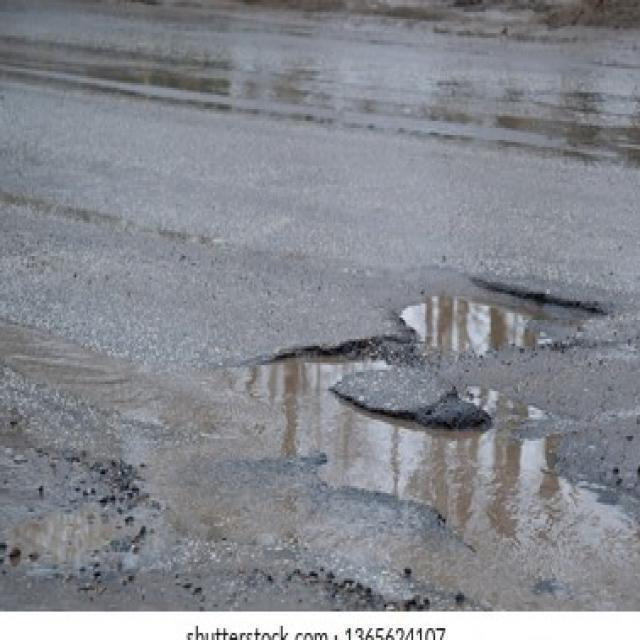pothole: (398, 273, 606, 363)
